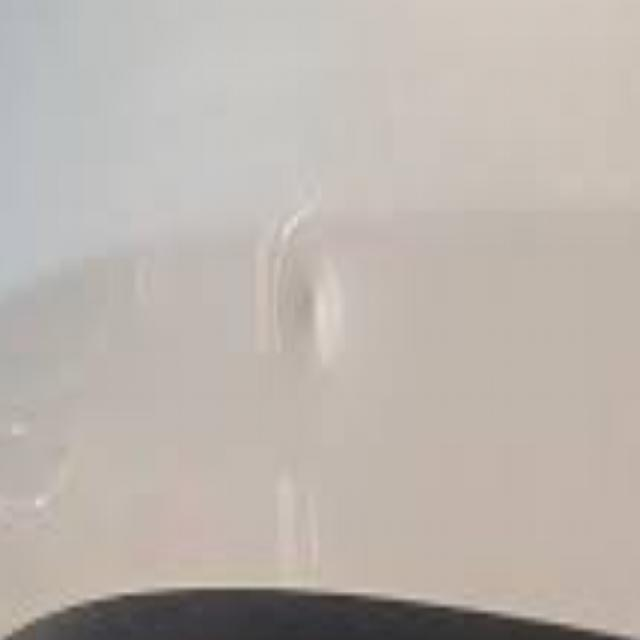dents: (252, 232, 350, 360)
